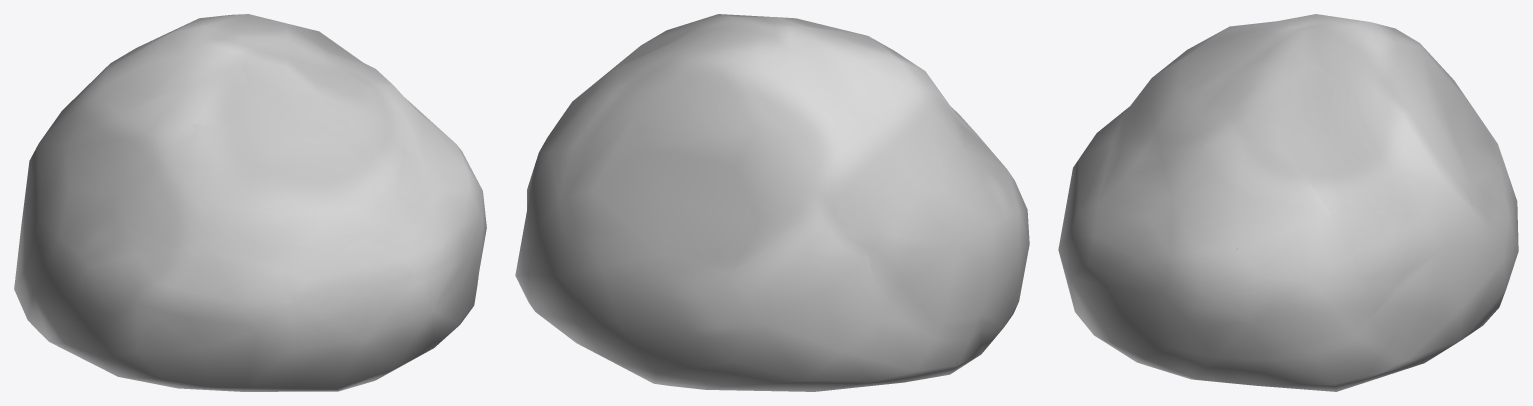
File: stone.fbx
3 renders of one model, left to right at view 1: azimuth 30°, elevation 25°; view 2: azimuth 150°, elevation 25°; view 3: azimuth 270°, elevation 25°, orthographic. The views are drawn at different scales.
Parts seen in each view (by area): view 1: Quad Sphere; view 2: Quad Sphere; view 3: Quad Sphere.
Boxes of the visible parts, <box> form: Quad Sphere: <box>14,14,486,391</box>; Quad Sphere: <box>515,14,1029,391</box>; Quad Sphere: <box>1058,14,1518,391</box>.
Size of the model in its own units: 398 by 263 by 381.
Materials: 1 (1 with a texture image).
